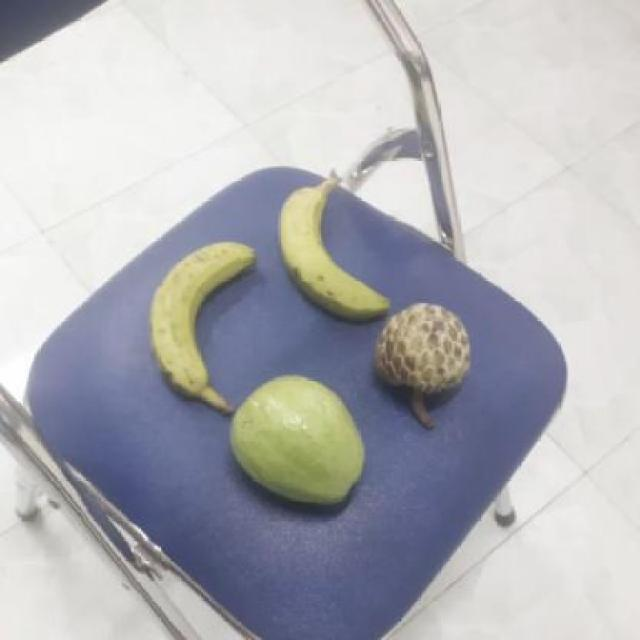banana: (144, 238, 265, 397), (270, 178, 388, 316)
guava: (222, 378, 366, 510)
sugar apple: (372, 303, 470, 419)
